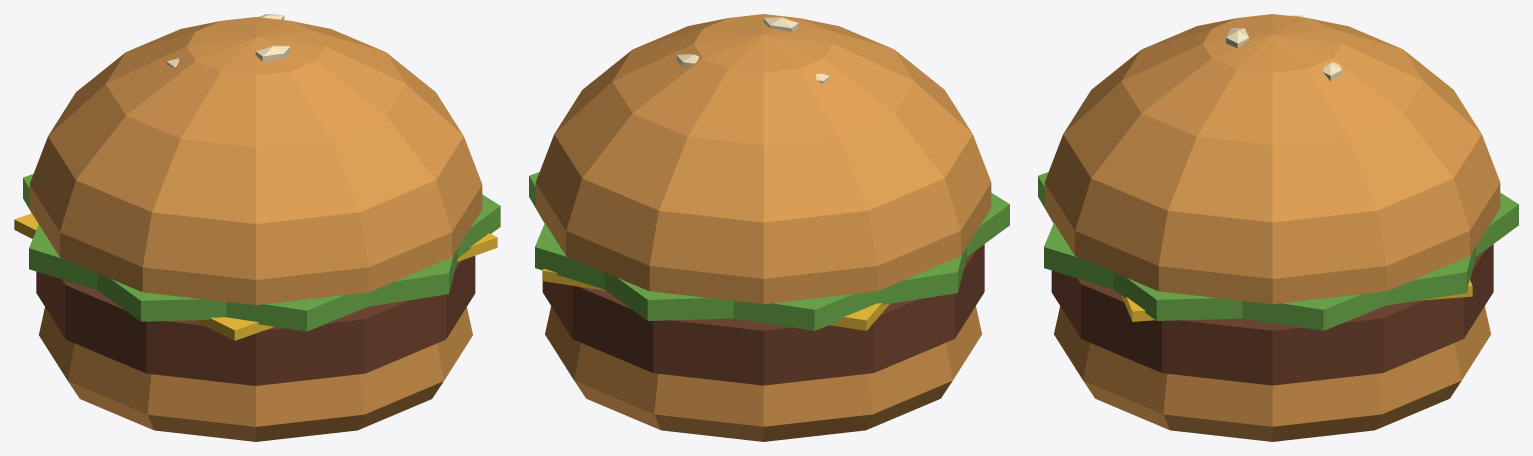
Rendered from Food_Hamburger.obj.
3 views of the same model, side by side, from view 1: azimuth 30°, elevation 25°; view 2: azimuth 150°, elevation 25°; view 3: azimuth 270°, elevation 25° (orthographic).
Bounding box in the file's own units: 2.09 × 1.54 × 2.07.
